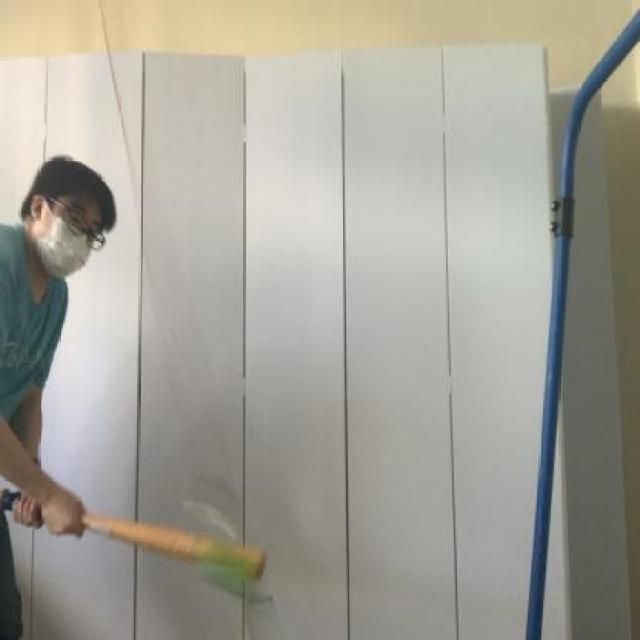baseball: (178, 520, 278, 612)
